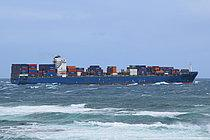Ship: (9, 53, 202, 87)
